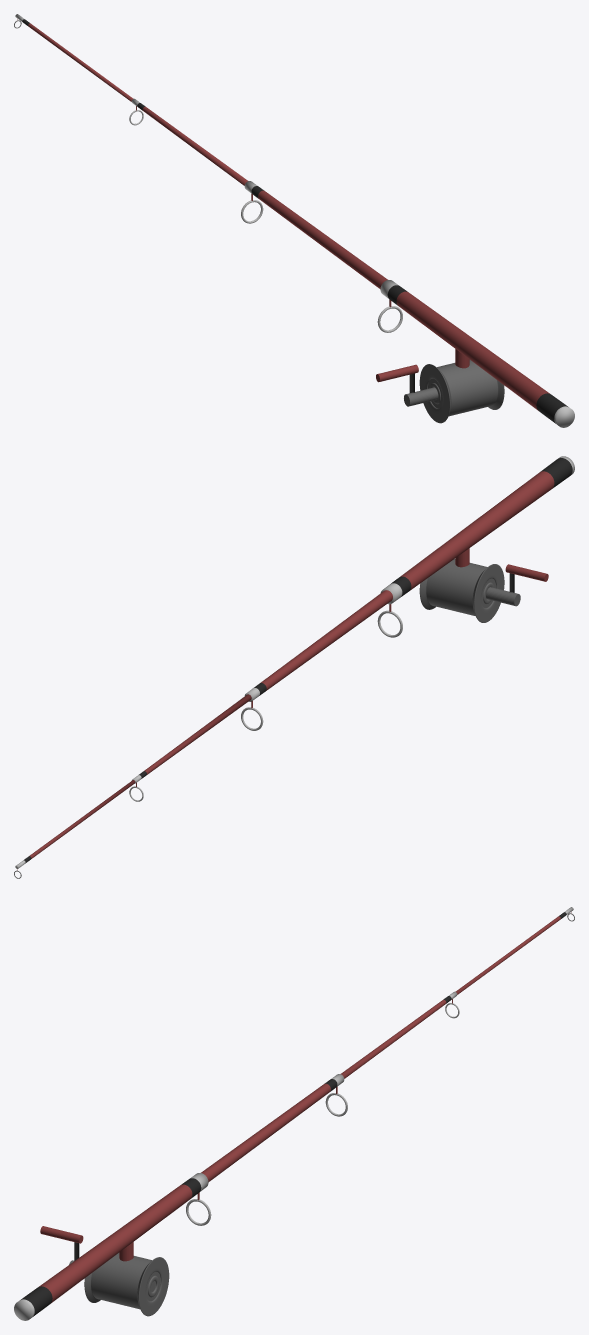
The model's file is YesFishingRod.fbx.
3 views of the same model, one above another, from view 1: azimuth 30°, elevation 25°; view 2: azimuth 150°, elevation 25°; view 3: azimuth 330°, elevation 25° (orthographic).
Visible parts, largest first — view 1: FishingRod, Handle; view 2: FishingRod, Handle; view 3: FishingRod.
Boxes of the visible parts, <box> form: FishingRod: <box>14,14,574,427</box>; Handle: <box>376,364,438,406</box>; FishingRod: <box>14,456,574,878</box>; Handle: <box>486,564,548,606</box>; FishingRod: <box>14,907,574,1320</box>.
Size of the model in its own units: 55.93 by 39.23 by 476.
